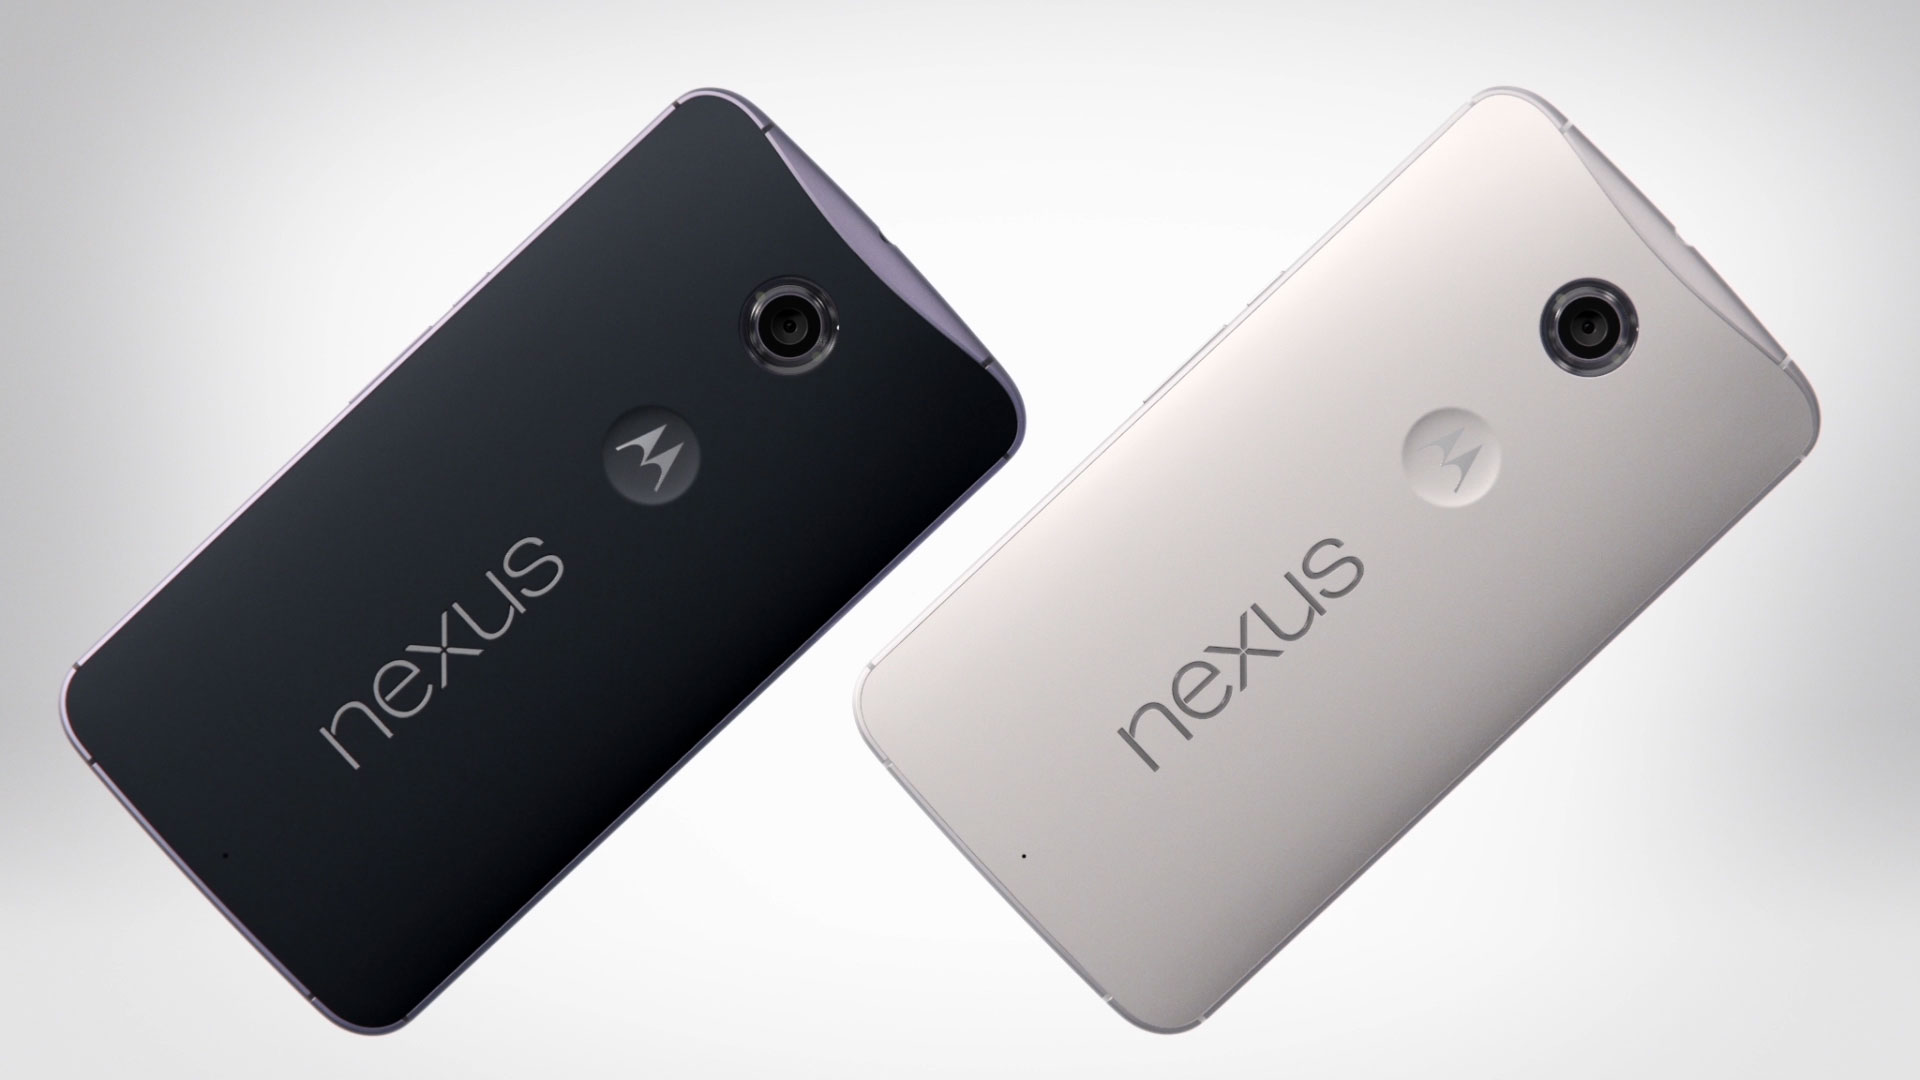smartphone: (855, 84, 1821, 1034), (59, 84, 1025, 1034)
